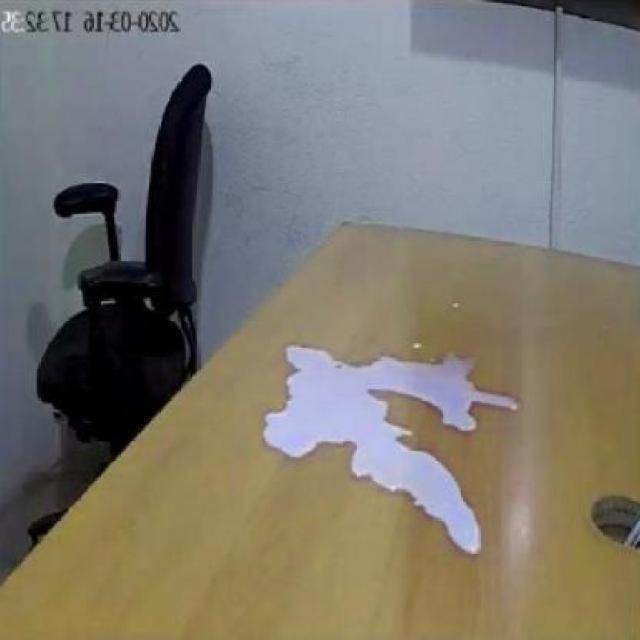spillage: (262, 346, 511, 557)
